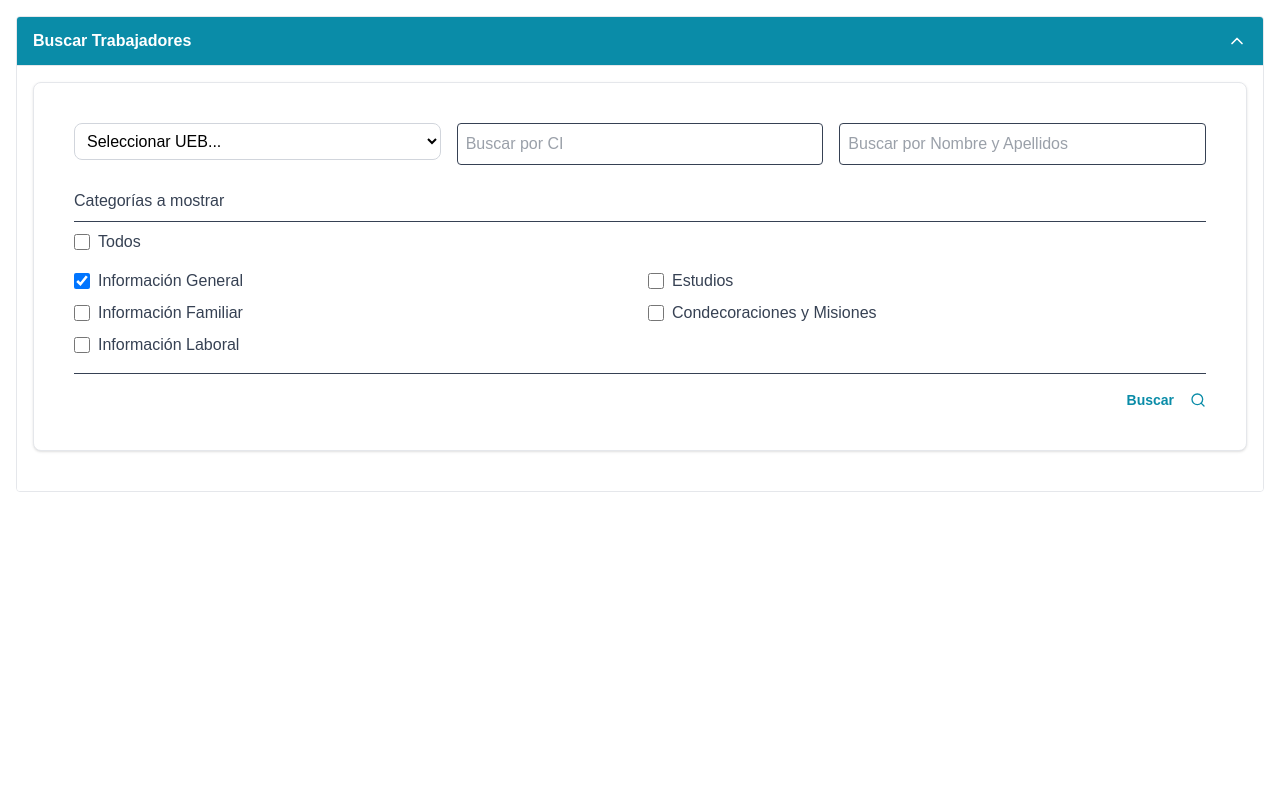
Test: BuscarTrabajador - Main Component › renders profile and only the selected tabs
Step 1. Click the checkbox labelled "Información Familiar" → [82, 313], box x1=74 y1=305 x2=90 y2=321
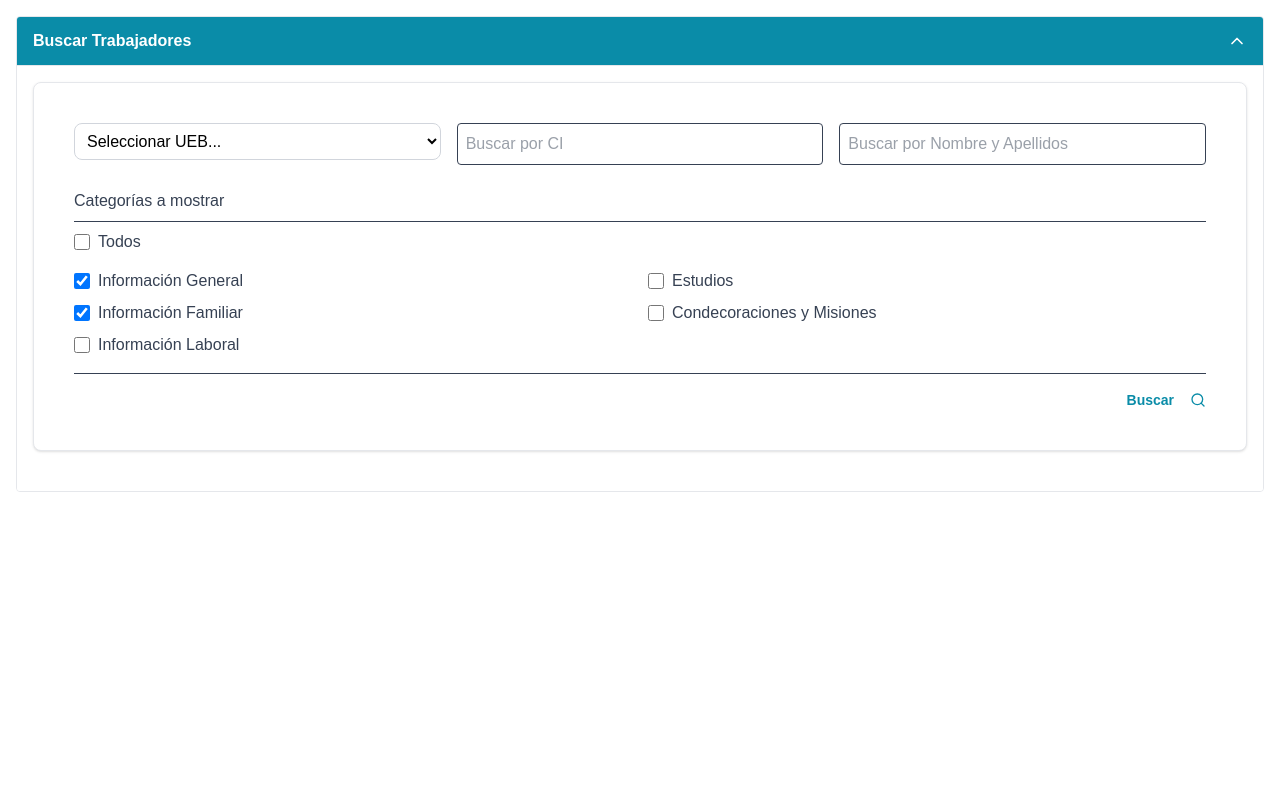
Step 2. Click the checkbox labelled "Información Laboral" → [82, 345], box x1=74 y1=337 x2=90 y2=353
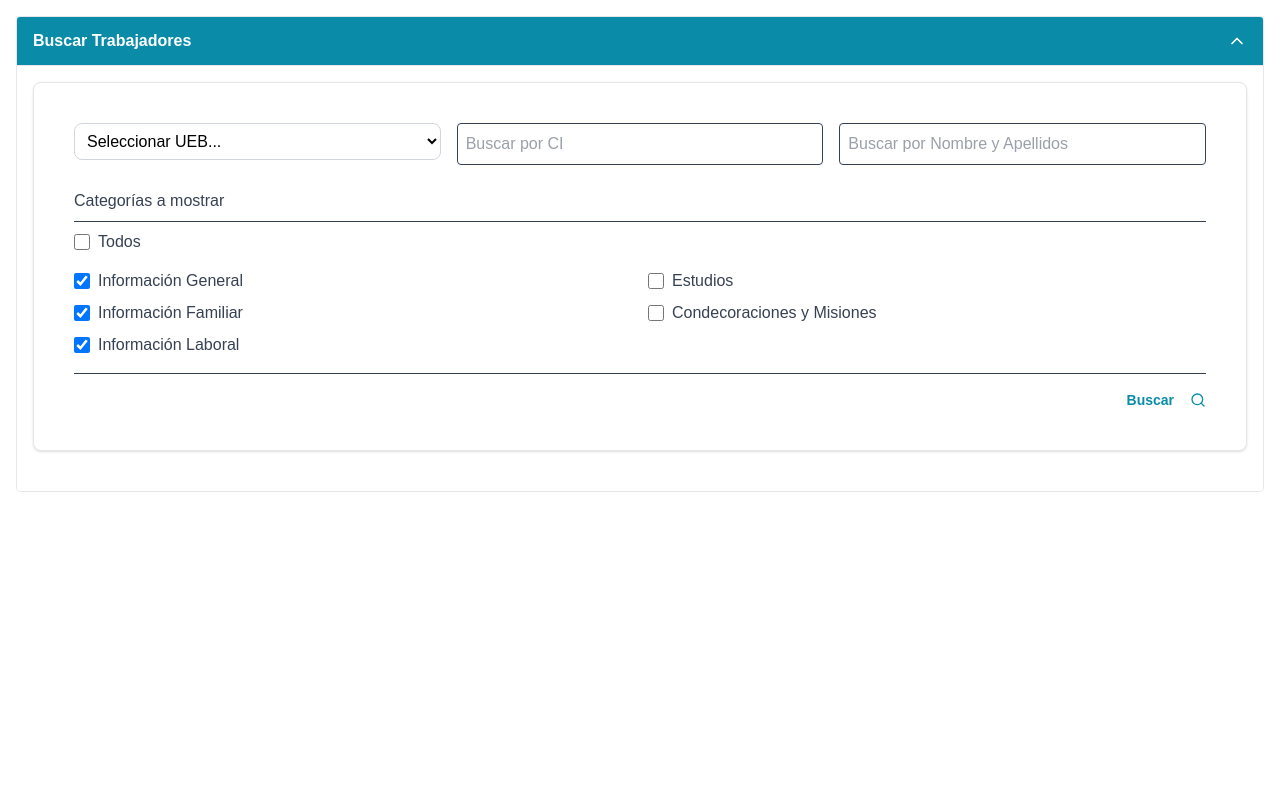
Step 3. Select "AICA" in the dropdown → [257, 142], box x1=74 y1=123 x2=441 y2=160
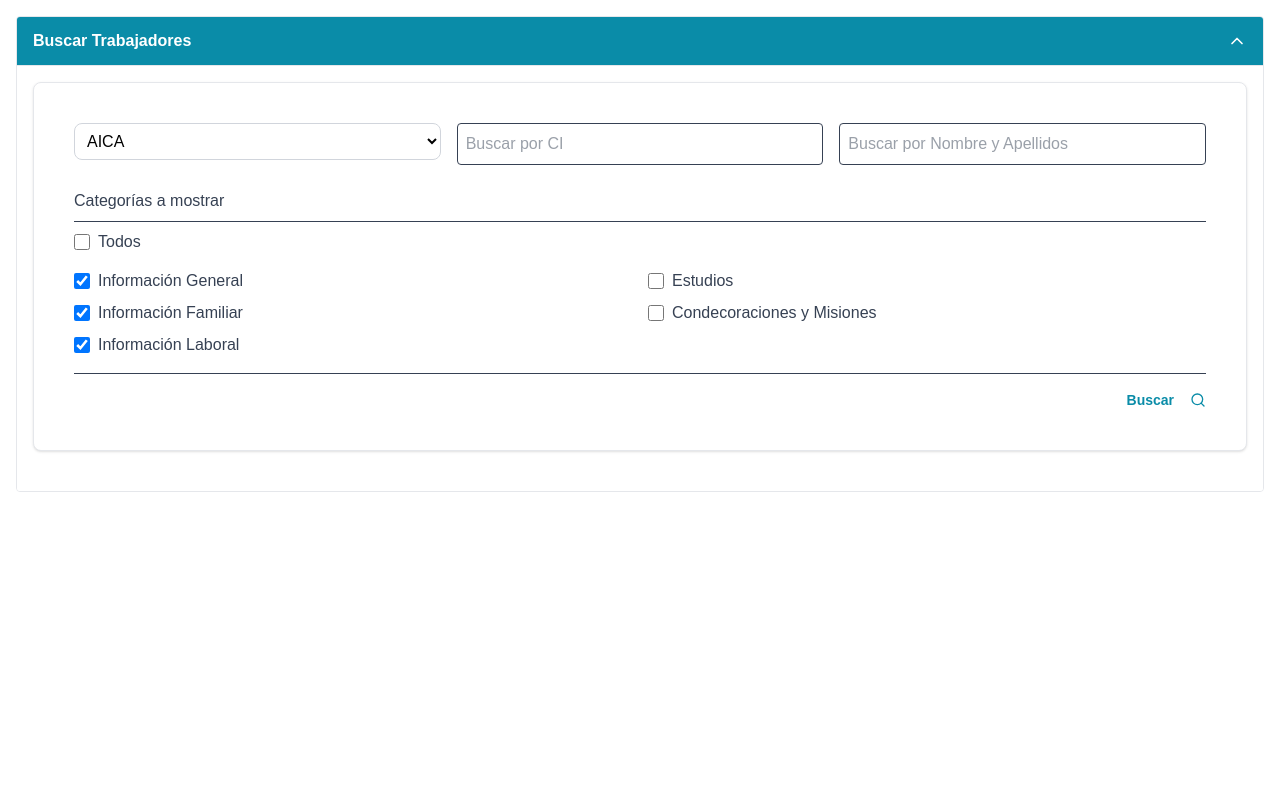
Step 4. Type "Juan" into the field with placeholder "Buscar por Nombre y Apellidos" → [1023, 144], box x1=839 y1=123 x2=1206 y2=165
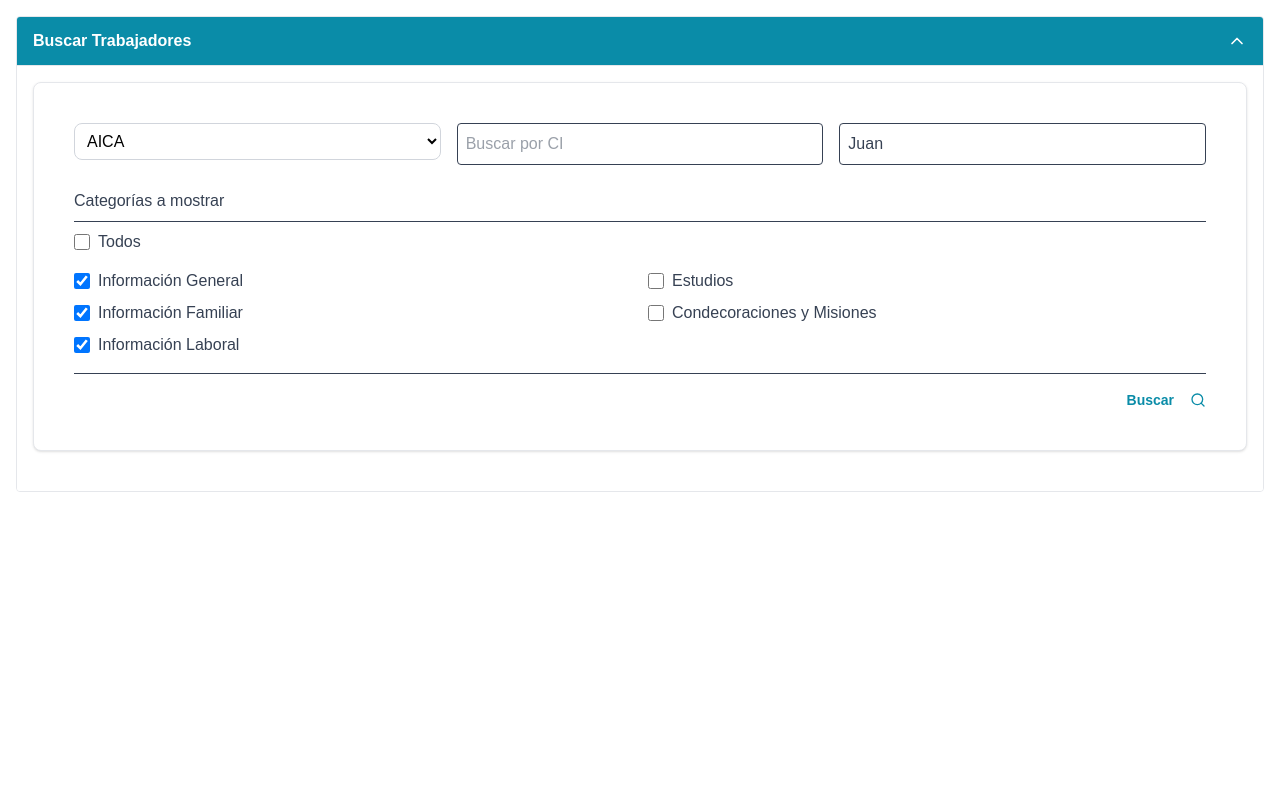
Step 5. Click the button "Buscar" → [1166, 400], box x1=1126 y1=390 x2=1206 y2=410
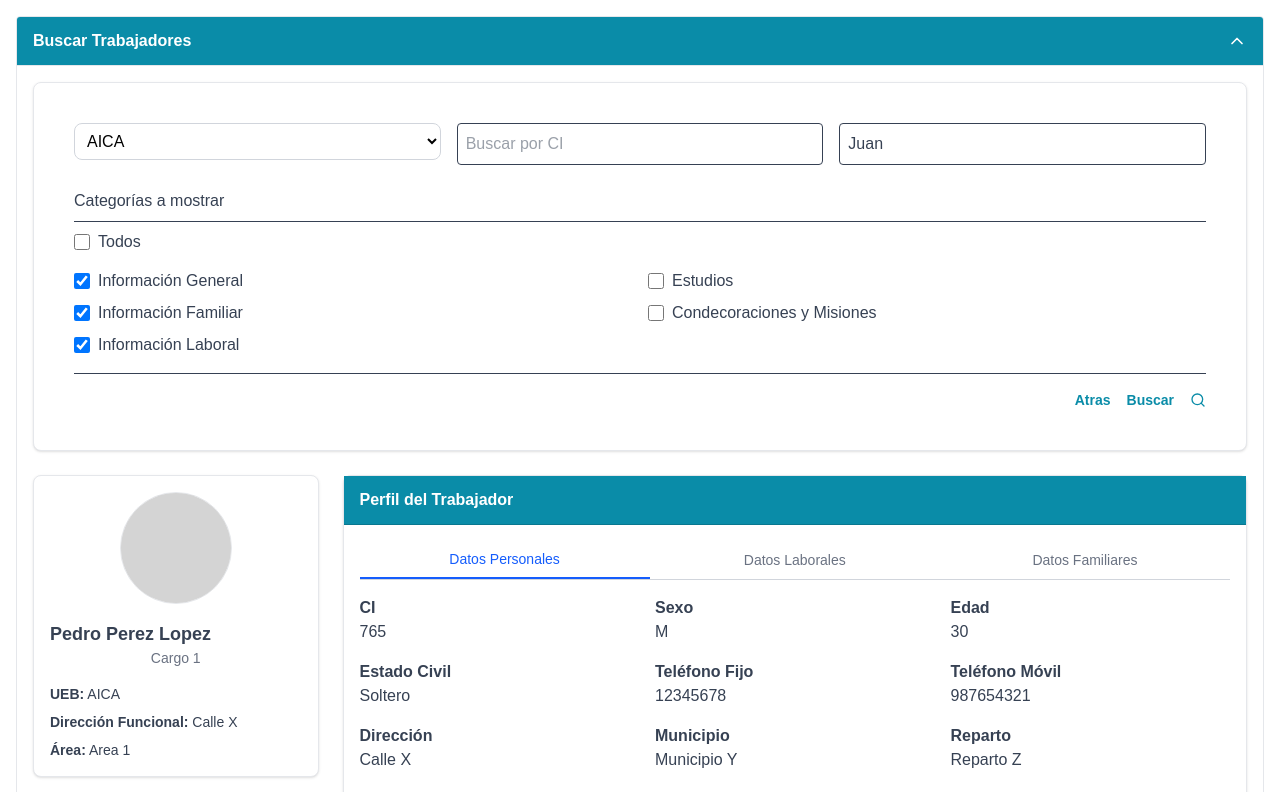
Result: the button "Datos Personales" is shown at x1=360 y1=541 x2=650 y2=579
Result: the button "Datos Familiares" is shown at x1=940 y1=541 x2=1230 y2=579
Result: the button "Datos Laborales" is shown at x1=650 y1=541 x2=940 y2=579
